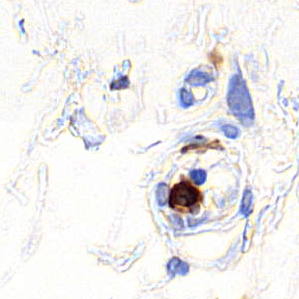Lymphocyte: (167, 181, 203, 214)
